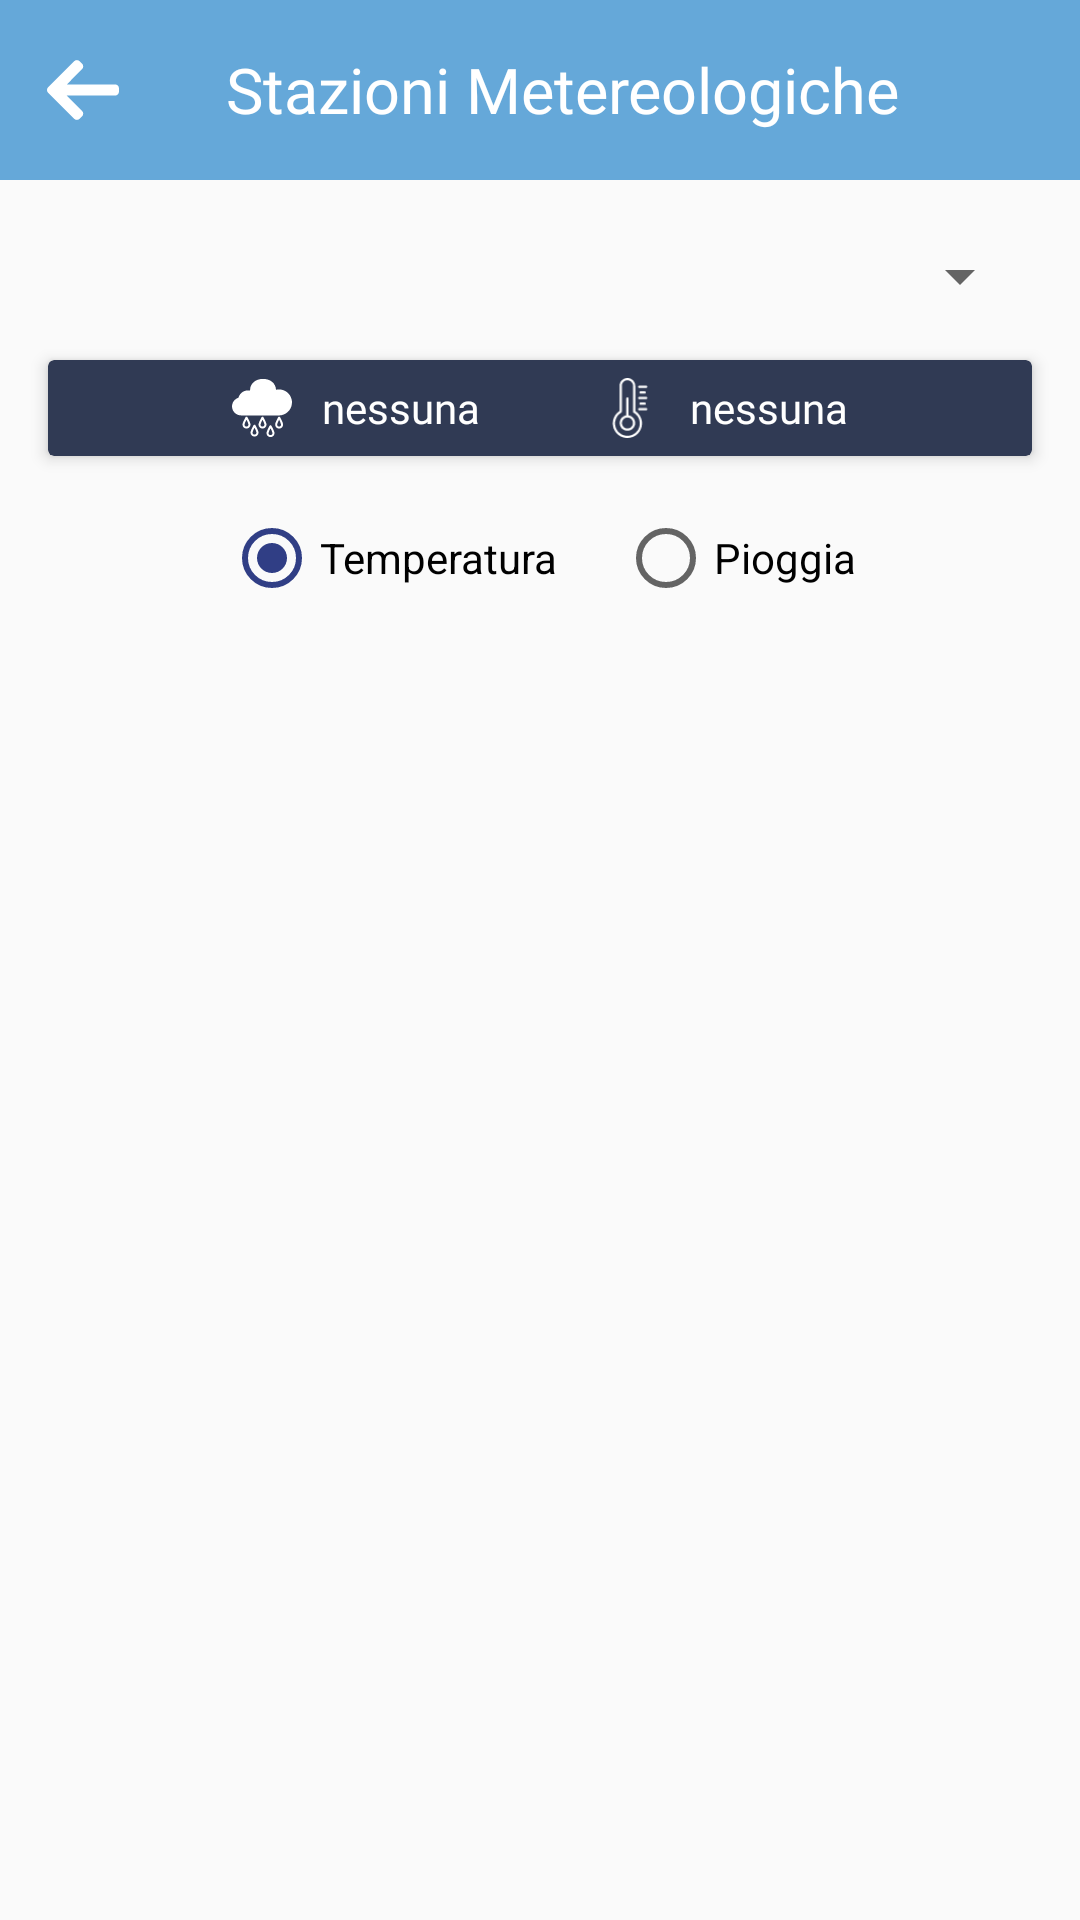

Where icons sit on this 1080px×1920px app screen, as [x1,y1,x2,y2]:
arrow back: [47,60,119,120]
rain: [232,379,292,437]
thermo: [612,378,648,438]
